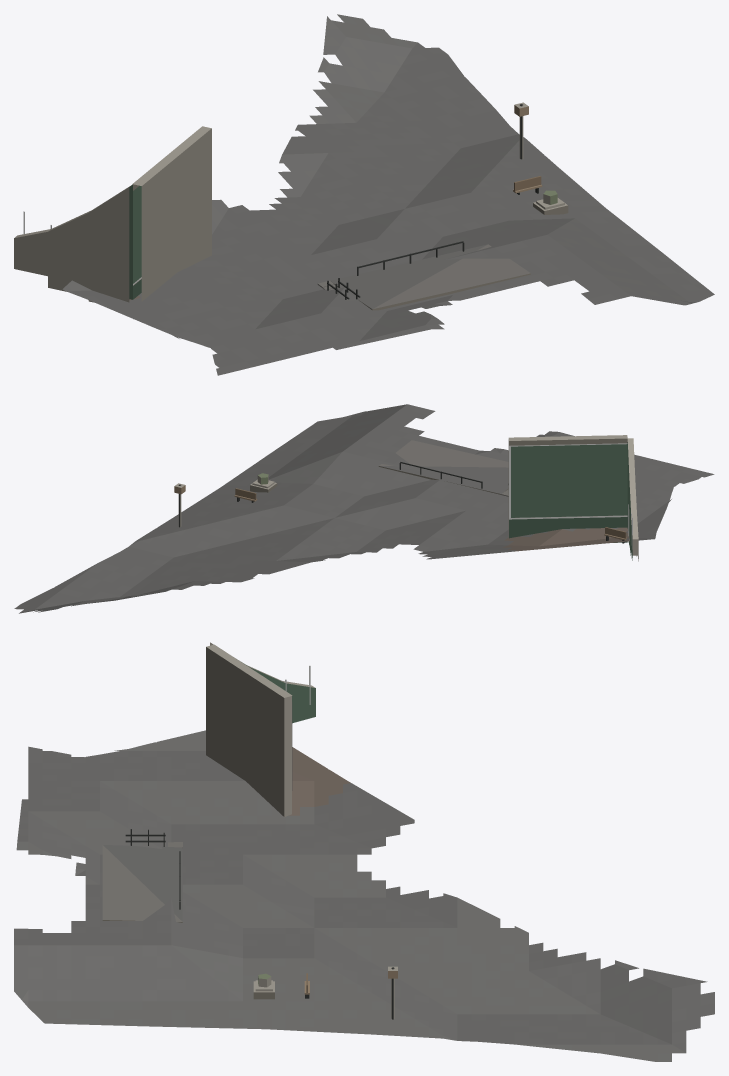
Rendered from plaza.glb.
3 views of the same model, one above another, from view 1: azimuth 30°, elevation 25°; view 2: azimuth 150°, elevation 25°; view 3: azimuth 270°, elevation 25° (orthographic). The views are drawn at different scales.
Visible parts, largest first — view 1: focal:plaza-and-access; view 2: focal:plaza-and-access; view 3: focal:plaza-and-access.
Part boxes in pixels (left/top/right/bottom): focal:plaza-and-access: left=14, top=14, right=714, bottom=375; focal:plaza-and-access: left=14, top=404, right=714, bottom=613; focal:plaza-and-access: left=14, top=642, right=714, bottom=1061.
Bounding box in the file's own units: 46.67 × 12.76 × 49.
